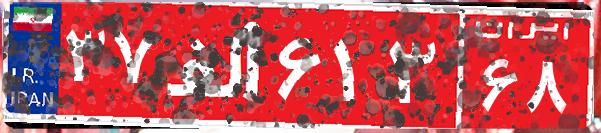1: (330, 28, 385, 110)
3: (385, 28, 445, 110), (57, 26, 110, 107)
6: (273, 28, 330, 110), (475, 38, 525, 113)
7: (110, 28, 158, 105)
8: (525, 38, 570, 115)
الف: (158, 15, 273, 115)
